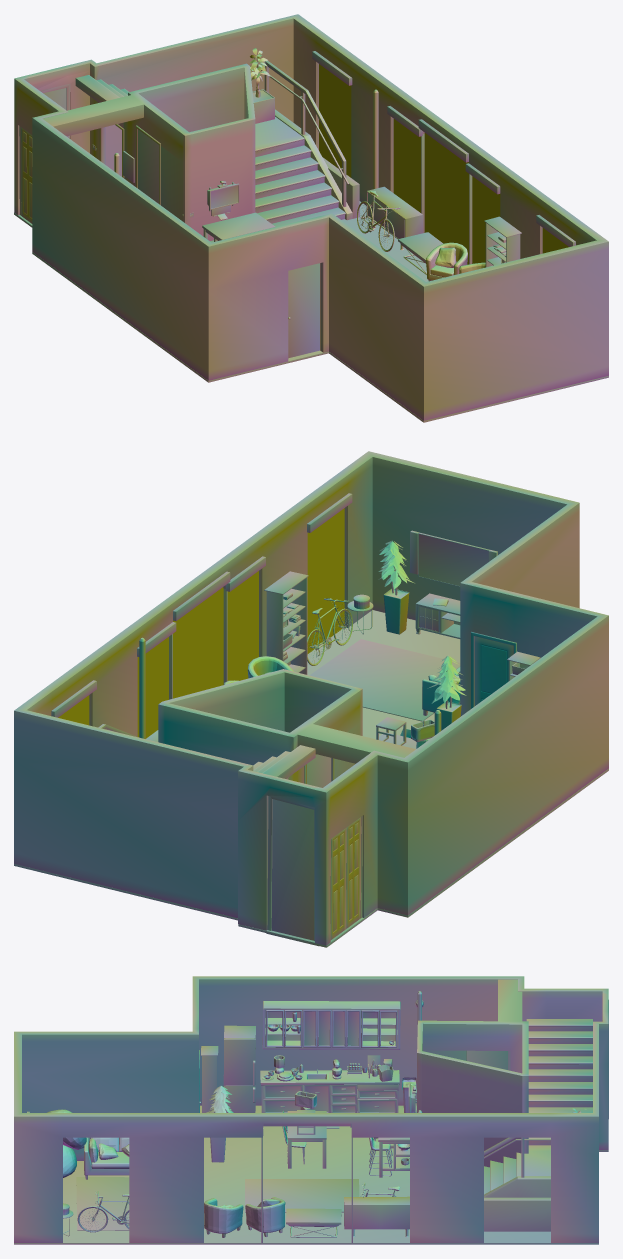
The picture shows the model from 3 angles, top to bottom: view 1: azimuth 30°, elevation 25°; view 2: azimuth 150°, elevation 25°; view 3: azimuth 270°, elevation 25°; orthographic projection. The views are drawn at different scales.
Parts seen in each view (by area): view 1: GT.ply; view 2: GT.ply; view 3: GT.ply.
Part boxes in pixels (bbox=[...]): GT.ply: bbox=[14, 14, 608, 422]; GT.ply: bbox=[14, 451, 608, 947]; GT.ply: bbox=[14, 976, 608, 1244].
Bounding box in the file's own units: 7.26 × 3.13 × 13.
